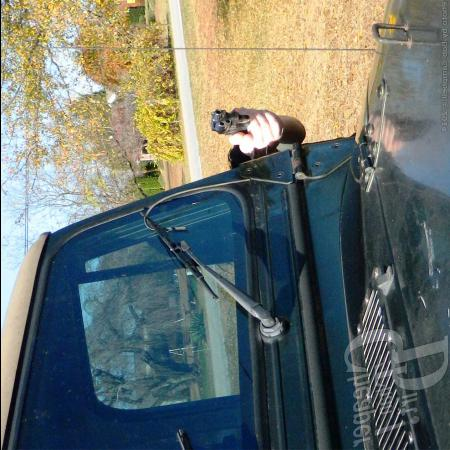Pistol: (209, 106, 275, 140)
